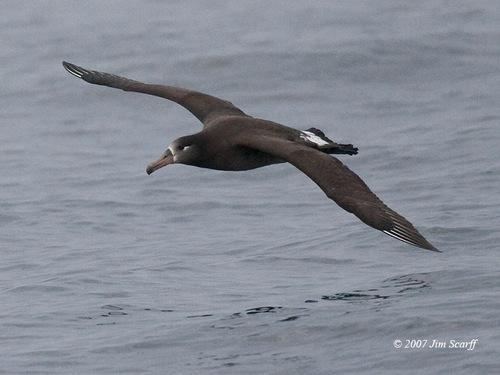bird: (62, 58, 444, 254)
